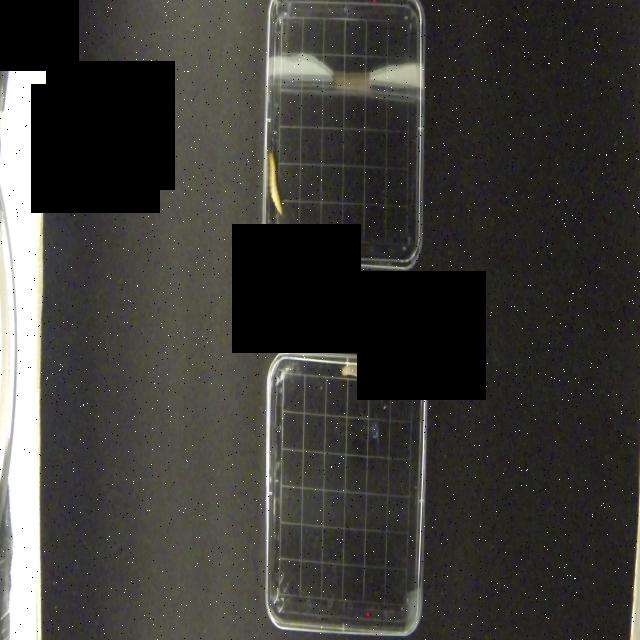larva: (269, 149, 284, 215), (340, 366, 383, 380)
